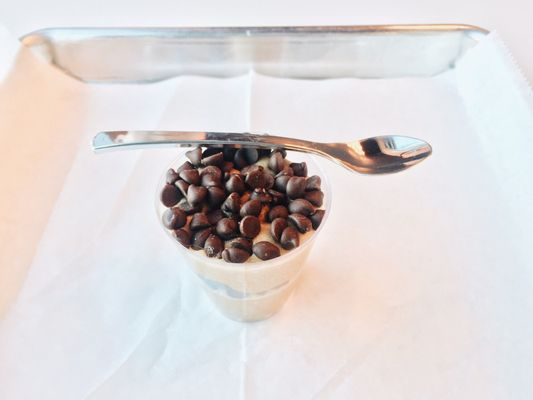salad: (107, 127, 433, 175)
sandwich: (90, 127, 432, 177)
sushi: (154, 142, 333, 323)
